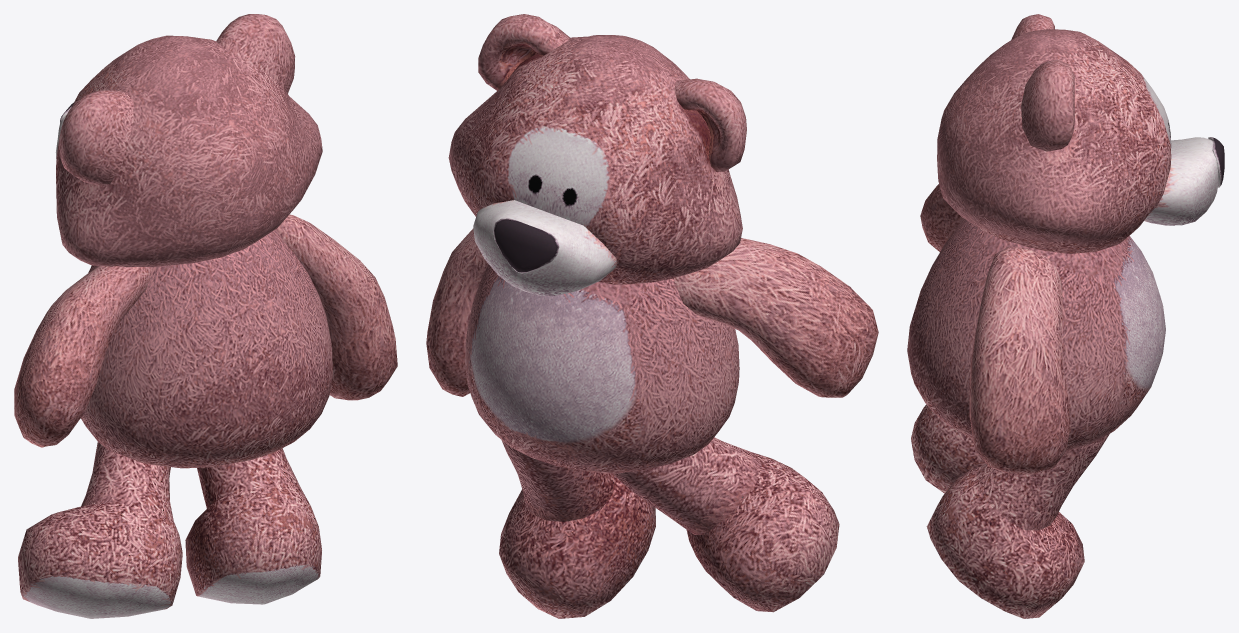
The model's file is bear.obj.
3 renders of one model, left to right at view 1: azimuth 30°, elevation 25°; view 2: azimuth 150°, elevation 25°; view 3: azimuth 270°, elevation 25°, orthographic. The views are drawn at different scales.
Parts seen in each view (by area): view 1: TeddyBearPT; view 2: TeddyBearPT; view 3: TeddyBearPT.
Boxes of the visible parts, x1=… form: TeddyBearPT: x1=14, y1=14, x2=397, y2=618; TeddyBearPT: x1=426, y1=14, x2=878, y2=618; TeddyBearPT: x1=907, y1=14, x2=1224, y2=618.
Bounding box in the file's own units: 0.1443 × 0.201 × 0.1044.
1 material, 1 textured.
